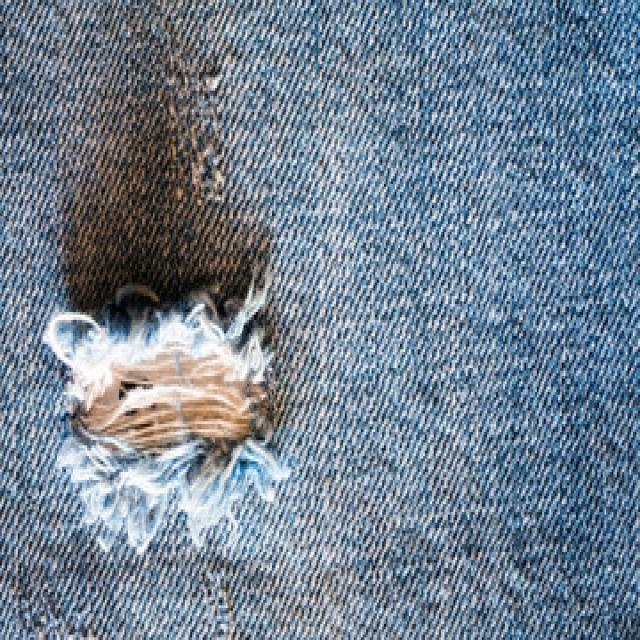Hole: (42, 272, 289, 550)
